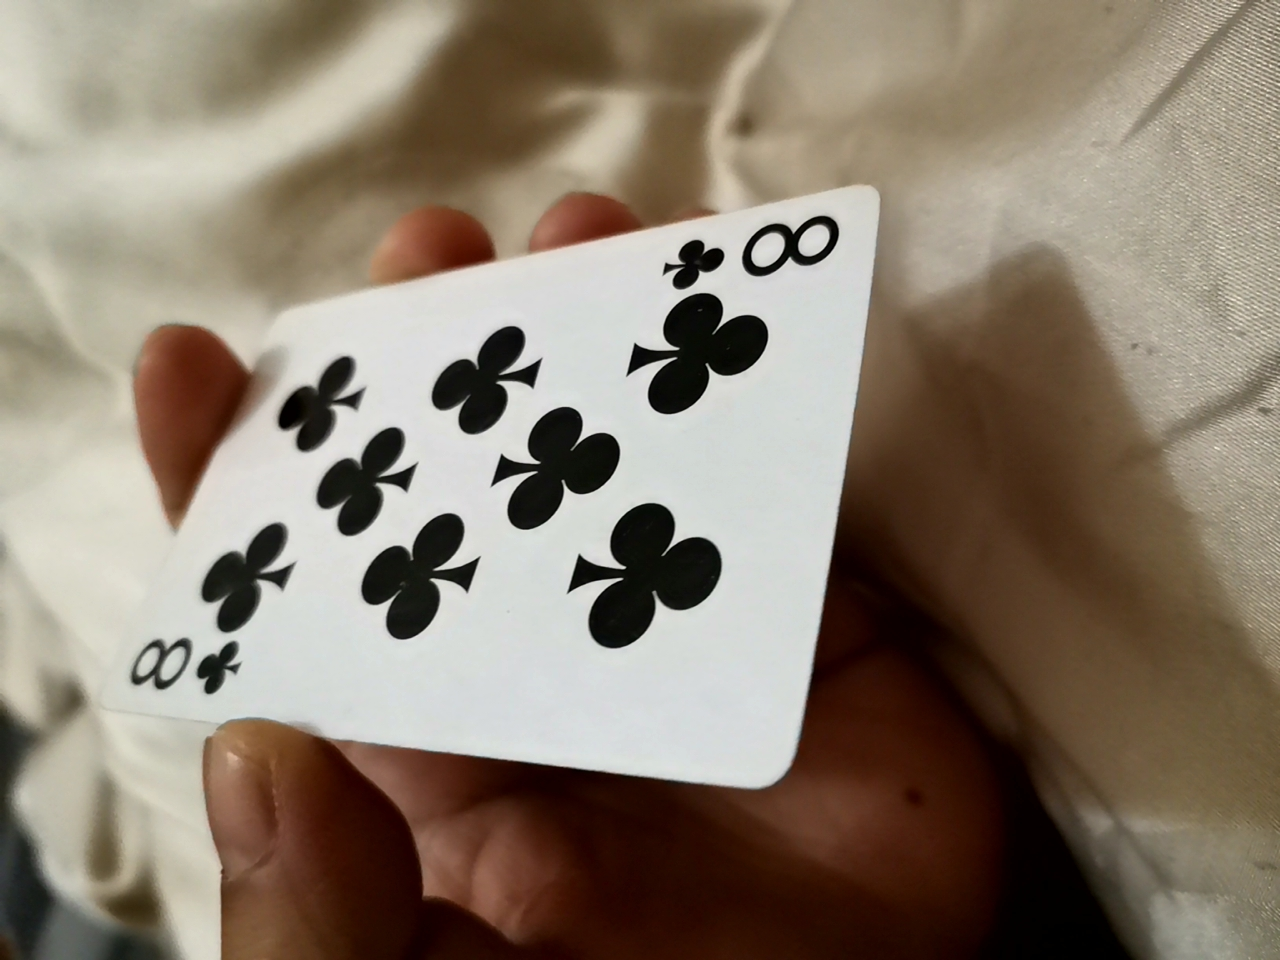mh 8: (102, 189, 887, 791)
